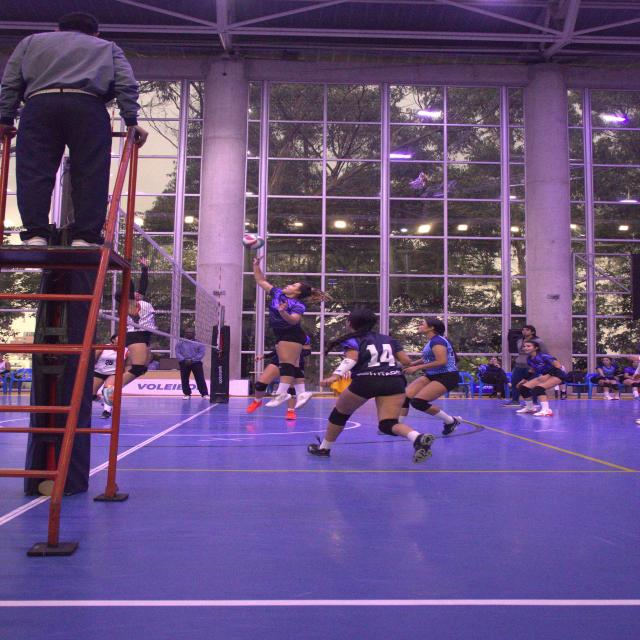volleyball: (242, 234, 265, 250)
